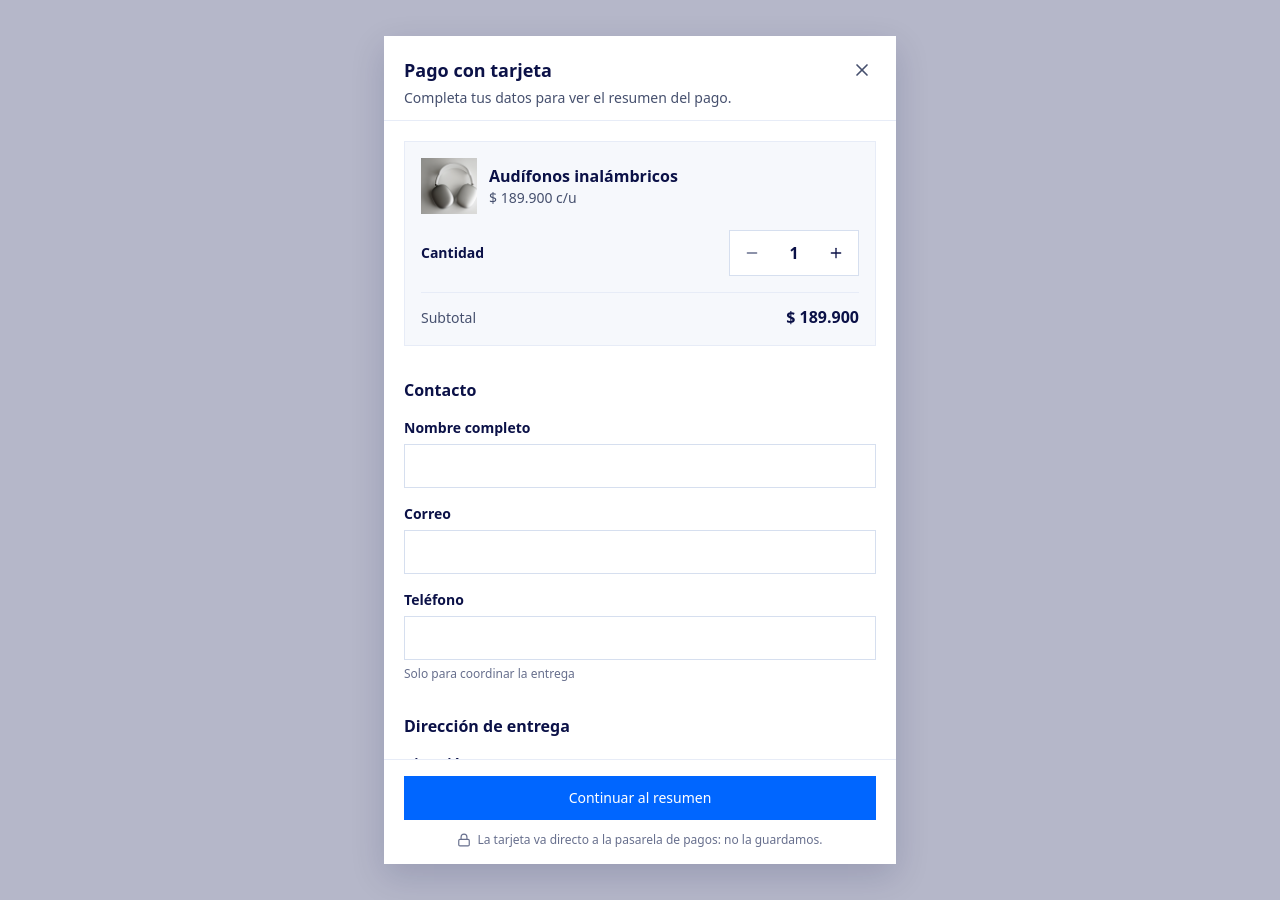
it: PaymentModal › la cantidad actualiza el subtotal y no supera el stock
Click the button named "Agregar una unidad" at (836, 253), box [814, 231, 858, 275]
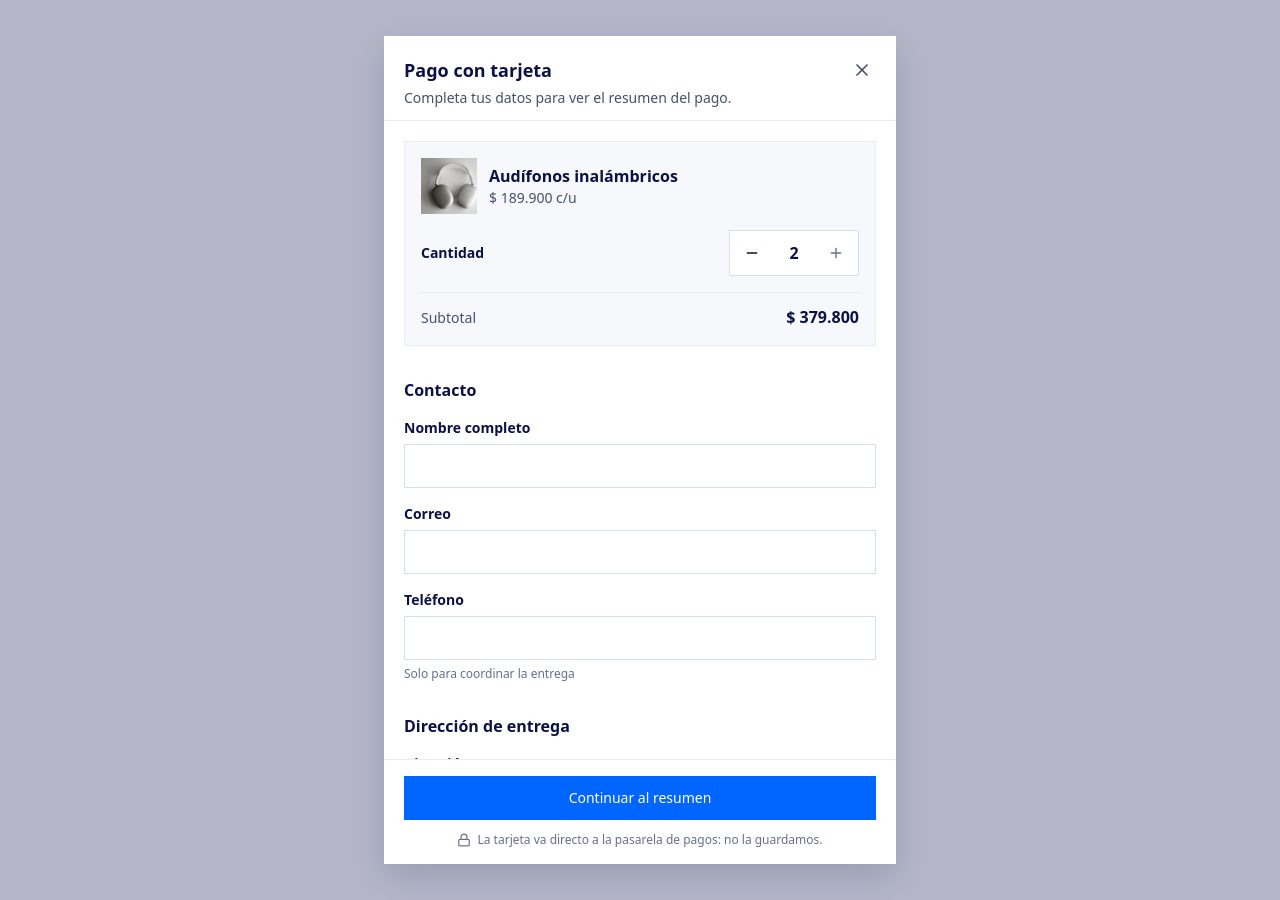
Result: the element named "Tu pedido" reads "Audífonos inalámbricos $ 189.900 c/u Cantidad 2 Subtotal $ 379.800" at [404, 141, 876, 346]
Result: the button named "Agregar una unidad" is disabled at [814, 231, 858, 275]
